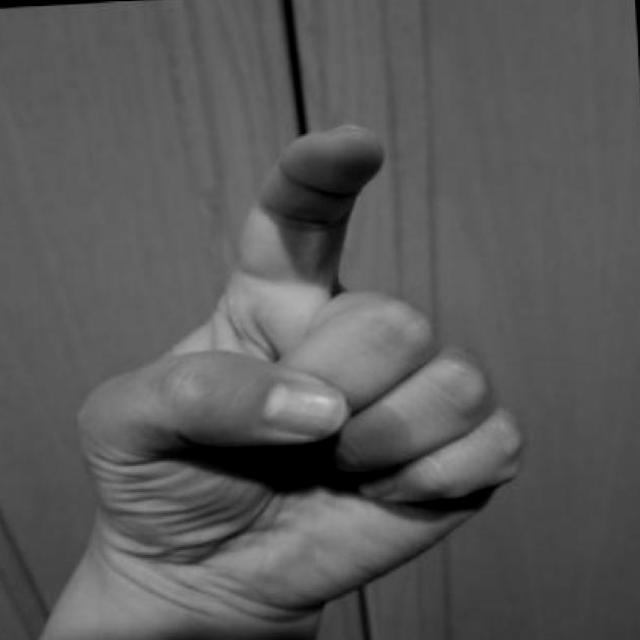X: (60, 102, 542, 636)
